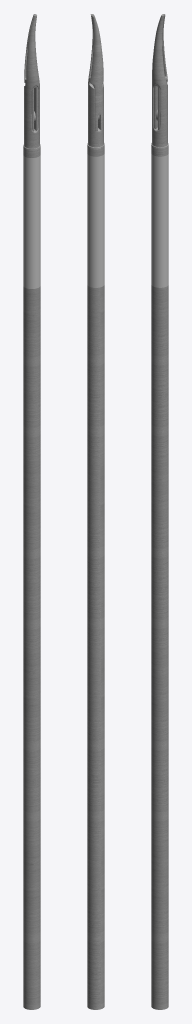
3 views of the same model, side by side, from view 1: azimuth 30°, elevation 25°; view 2: azimuth 210°, elevation 25°; view 3: azimuth 330°, elevation 25° (orthographic).
Visible parts, largest first — view 1: polySurface419, zhuaqian-toubu; view 2: polySurface419, zhuaqian-toubu; view 3: polySurface419, zhuaqian-toubu.
Boxes of the visible parts, <box> form: polySurface419: <box>23,15,40,1009</box>; zhuaqian-toubu: <box>24,14,36,82</box>; polySurface419: <box>87,14,104,1009</box>; zhuaqian-toubu: <box>89,15,103,130</box>; polySurface419: <box>151,15,168,1009</box>; zhuaqian-toubu: <box>162,14,167,83</box>.
Size of the model in its own units: 2.1 by 130 by 2.03.
